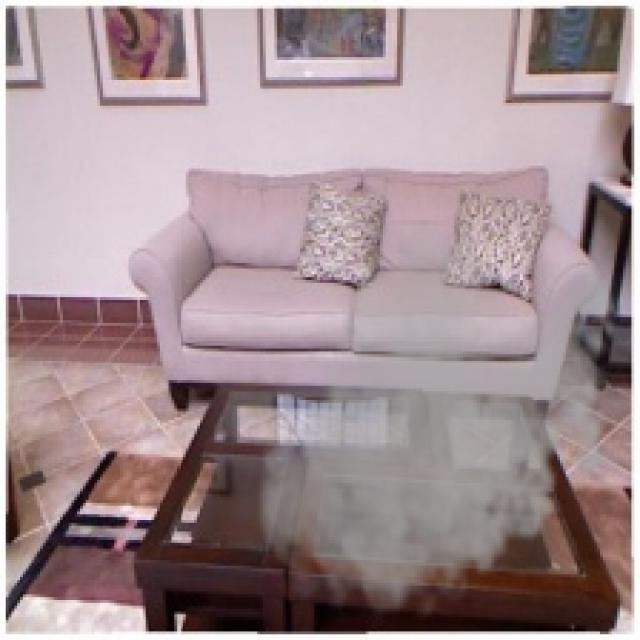smoke: (248, 220, 632, 629)
